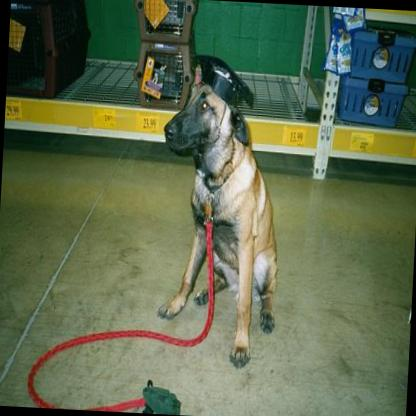malinois: (144, 50, 288, 372)
